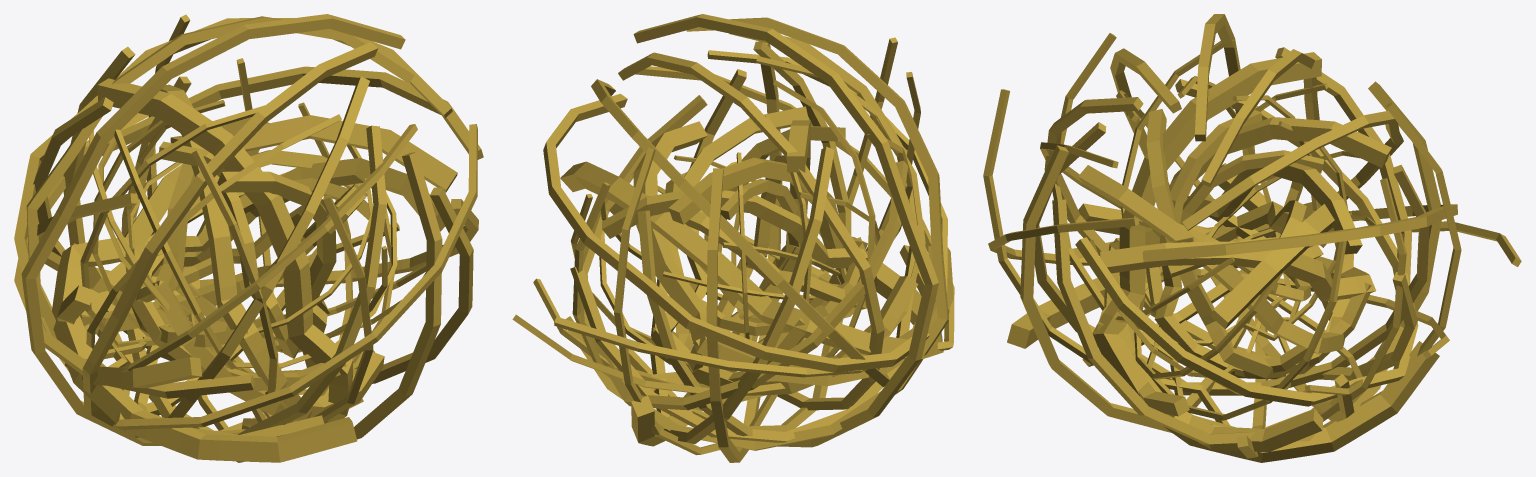
Rendered from tumbleweed.glb.
The picture shows the model from 3 angles, left to right: view 1: azimuth 30°, elevation 25°; view 2: azimuth 150°, elevation 25°; view 3: azimuth 270°, elevation 25°; orthographic projection. The views are drawn at different scales.
Visible parts, largest first — view 1: Cylinder, Cylinder.002, Cylinder.001; view 2: Cylinder, Cylinder.002, Cylinder.001; view 3: Cylinder.002, Cylinder, Cylinder.001.
Part boxes in pixels (x1=…): Cylinder: x1=14, y1=14, x2=483, y2=462; Cylinder.002: x1=52, y1=78, x2=457, y2=462; Cylinder.001: x1=40, y1=14, x2=477, y2=430; Cylinder: x1=543, y1=14, x2=948, y2=462; Cylinder.002: x1=560, y1=106, x2=953, y2=446; Cylinder.001: x1=512, y1=37, x2=954, y2=455; Cylinder.002: x1=1007, y1=52, x2=1439, y2=462; Cylinder: x1=1020, y1=14, x2=1457, y2=458; Cylinder.001: x1=983, y1=33, x2=1521, y2=428.
Size of the model in its own units: 1.65 by 1.67 by 1.93.
